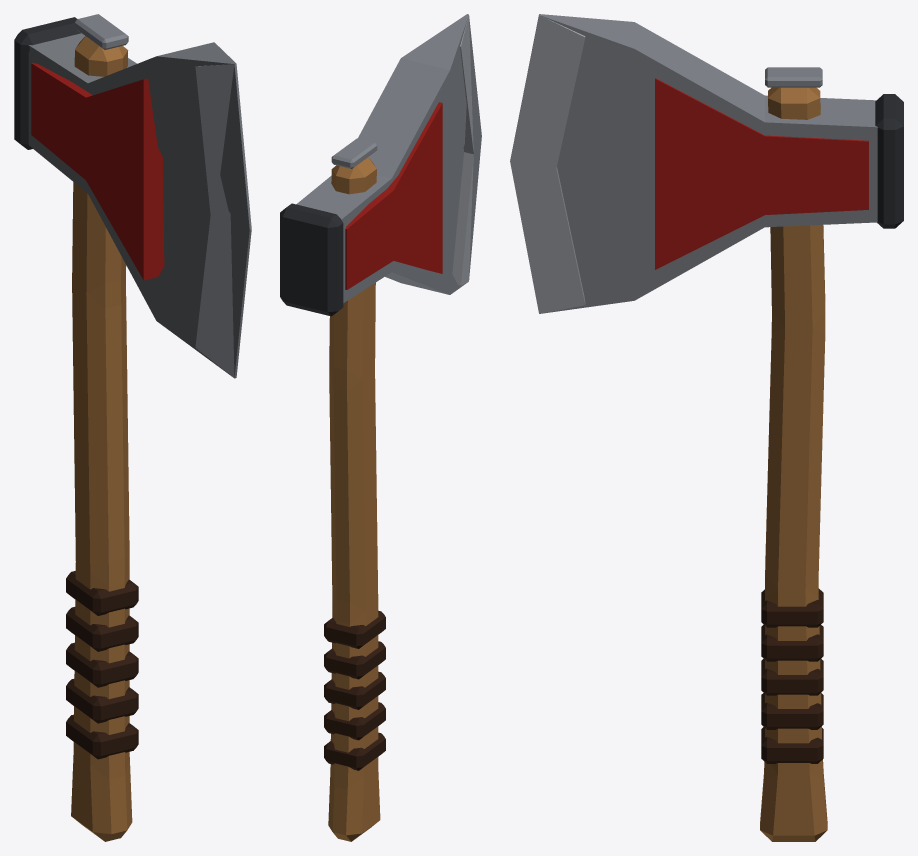
The model's file is Axe.fbx.
3 views of the same model, side by side, from view 1: azimuth 30°, elevation 25°; view 2: azimuth 150°, elevation 25°; view 3: azimuth 270°, elevation 25° (orthographic). The views are drawn at different scales.
Visible parts, largest first — view 1: Axe; view 2: Axe; view 3: Axe.
Boxes of the visible parts, x1,y1,x2,y2 form: Axe: (14,14,251,841); Axe: (280,14,481,841); Axe: (510,14,903,841).
Bounding box in the file's own units: 24.01 × 290 × 126.
